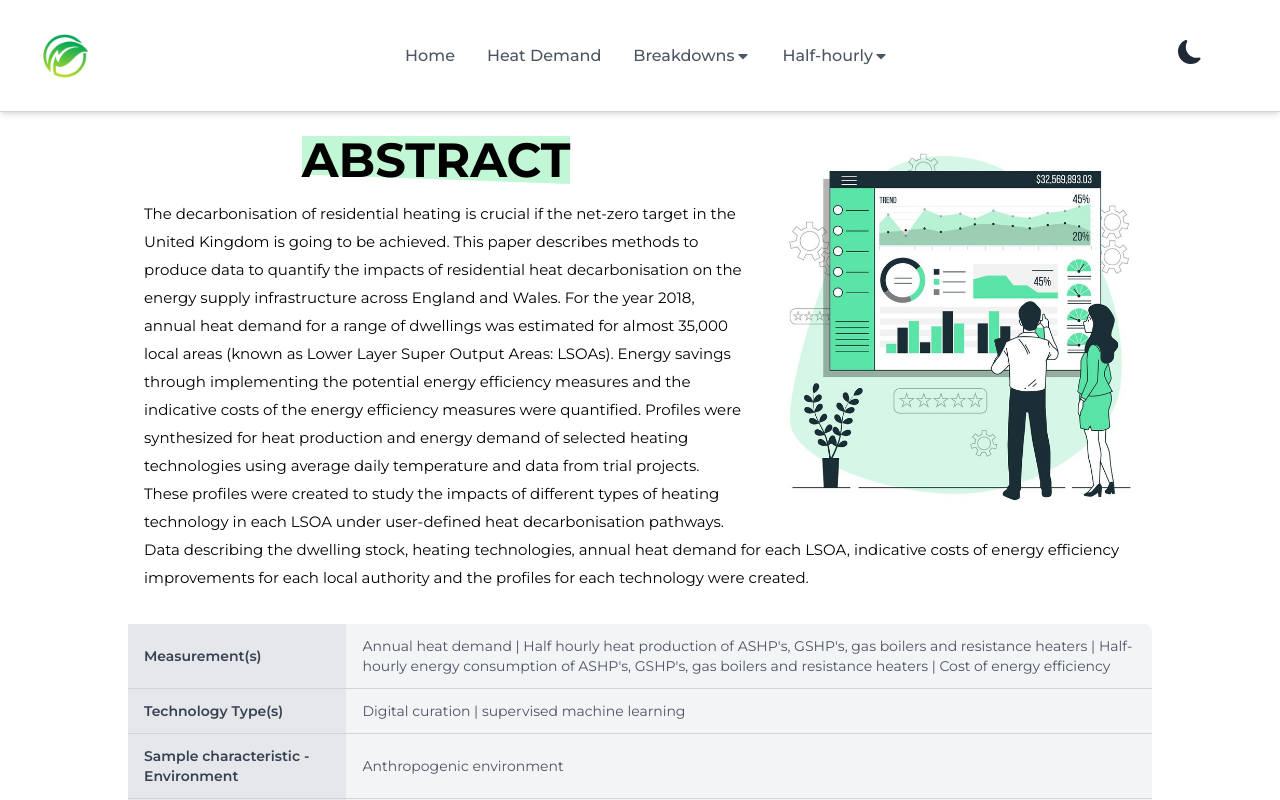
it: Navbar › has a navigation link to Heat that navigates to /breakdown/heat
The width and height of the screenshot is (1280, 800).
Click the button with test id "nav-breakdown". click: (692, 56)
box: [633,44,750,68]
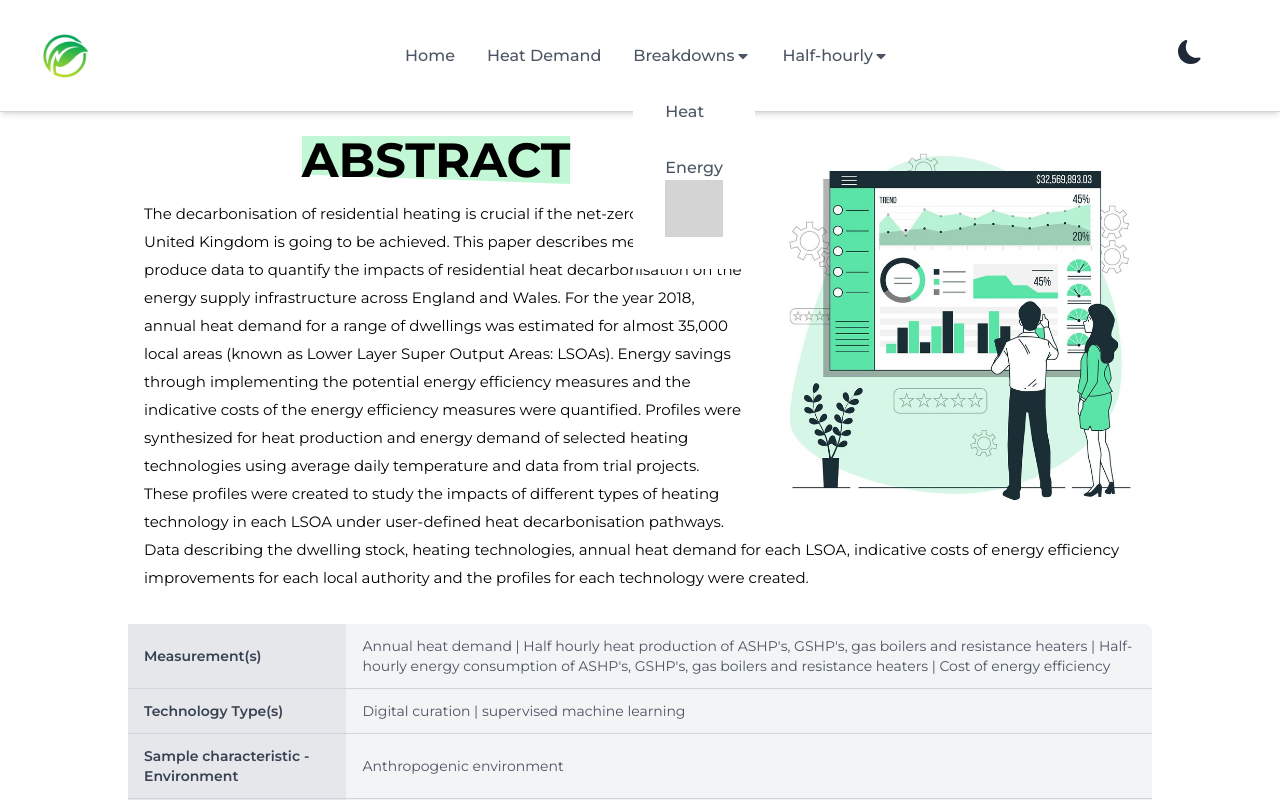
Expected: the link with test id "nav-breakdown-heat" reads "Heat", [665,102,704,121]
